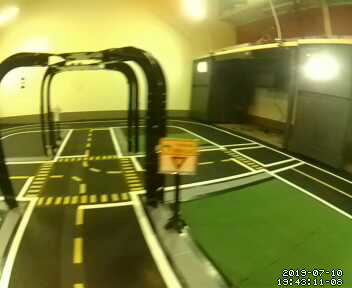Turn Yield: (158, 135, 199, 176)
